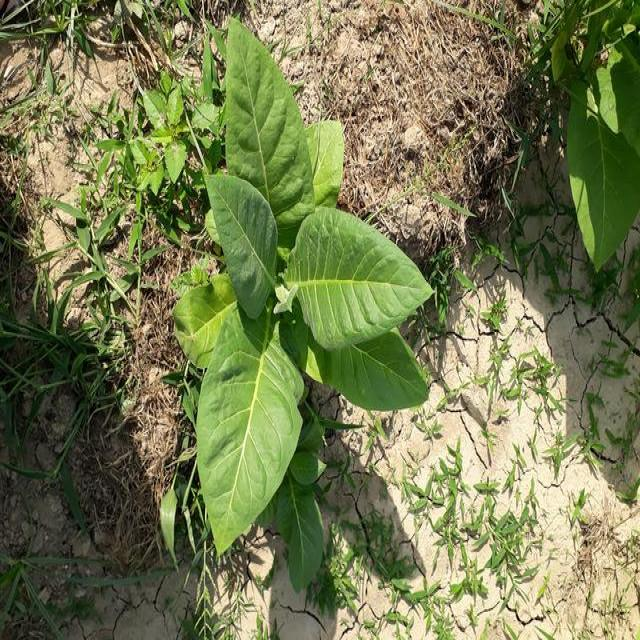crop: (190, 8, 427, 580)
